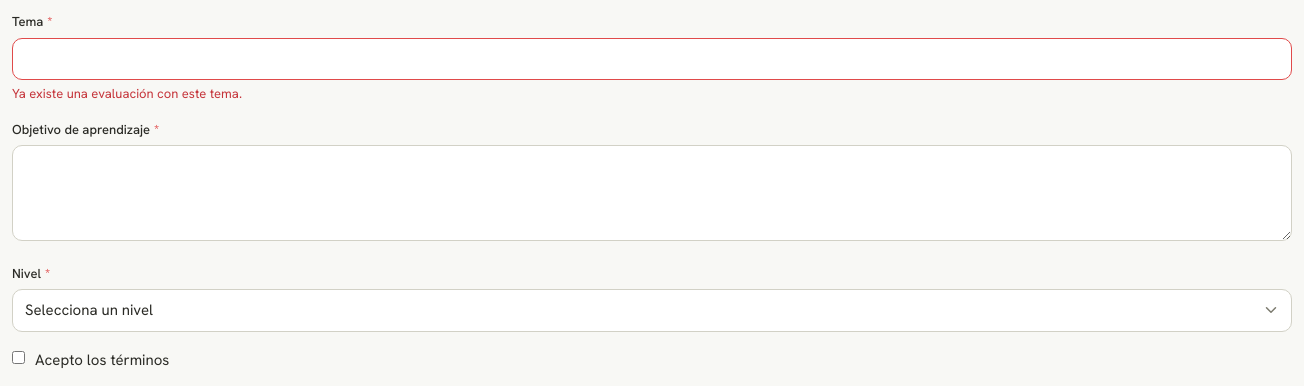
Test: DynamicForm › applies externalErrors to the matching field and clears it once the user edits that field
The image size is (1304, 386).
Expected: the text "Ya existe una evaluación con este tema." is shown, [12, 85, 242, 102]
Type "Un tema nuevo" into the field labelled "Tema*" at [652, 59], box [12, 38, 1292, 80]
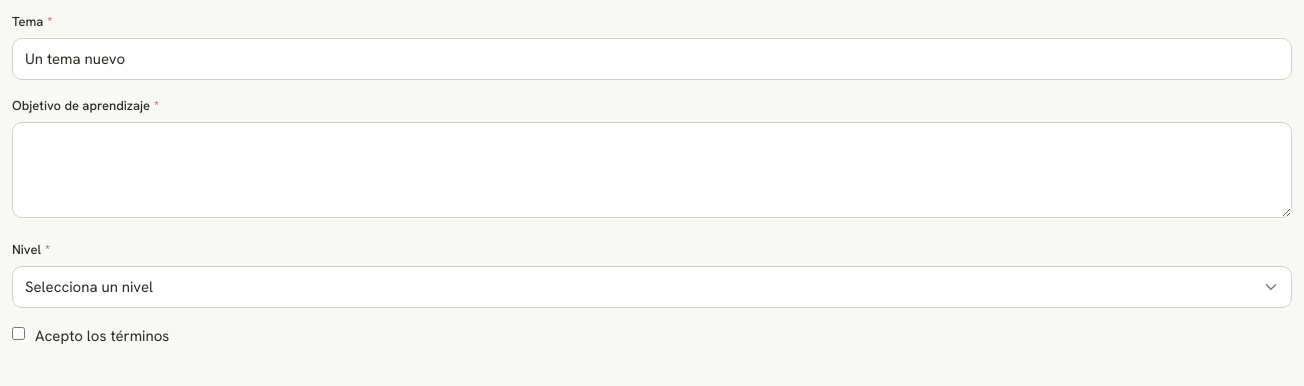
Expected: the text "Ya existe una evaluación con este tema." is gone
